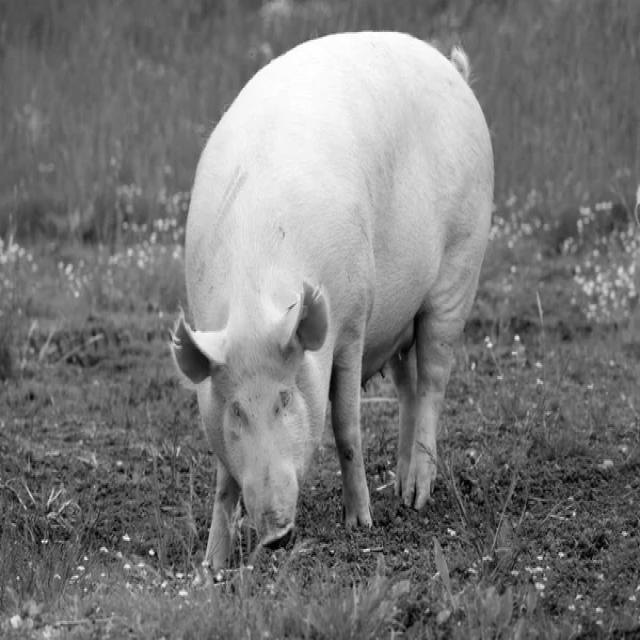Animal: (172, 32, 495, 570)
